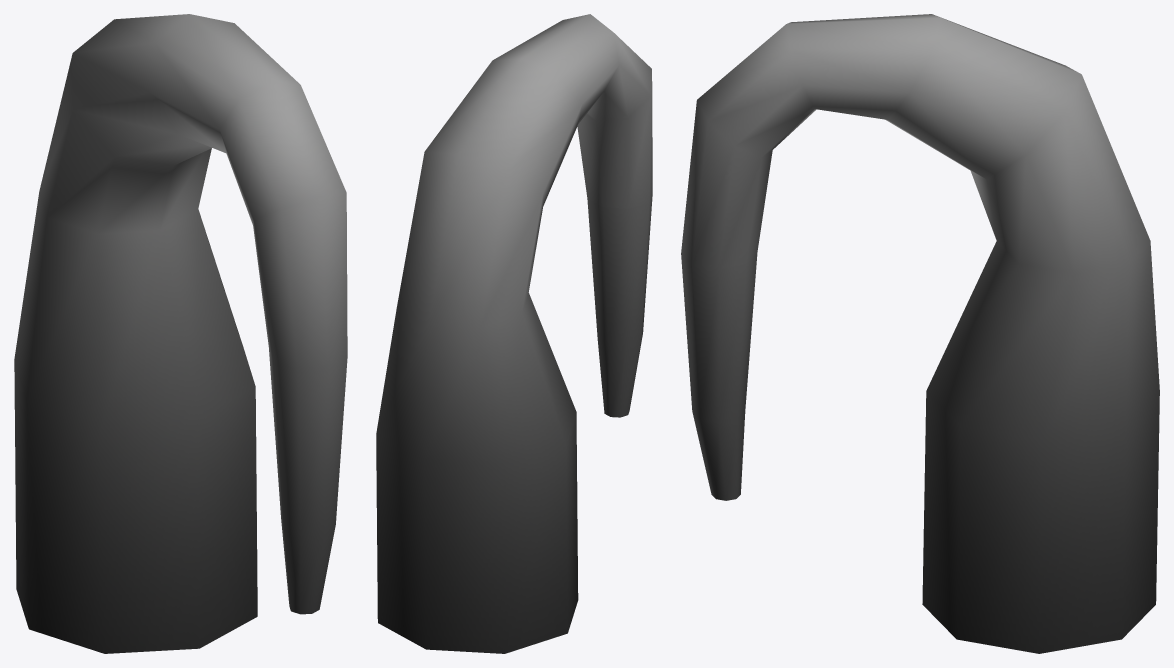
File: CreeperSapling_MESH_01.fbx
3 views of the same model, side by side, from view 1: azimuth 30°, elevation 25°; view 2: azimuth 150°, elevation 25°; view 3: azimuth 270°, elevation 25° (orthographic). The views are drawn at different scales.
Parts seen in each view (by area): view 1: CreeperSapling_MESH_01; view 2: CreeperSapling_MESH_01; view 3: CreeperSapling_MESH_01.
Boxes of the visible parts, left/top/right/bottom form: CreeperSapling_MESH_01: left=14, top=14, right=347, bottom=653; CreeperSapling_MESH_01: left=376, top=14, right=652, bottom=653; CreeperSapling_MESH_01: left=681, top=14, right=1159, bottom=653.
Bounding box in the file's own units: 14.56 × 40.34 × 29.84.
